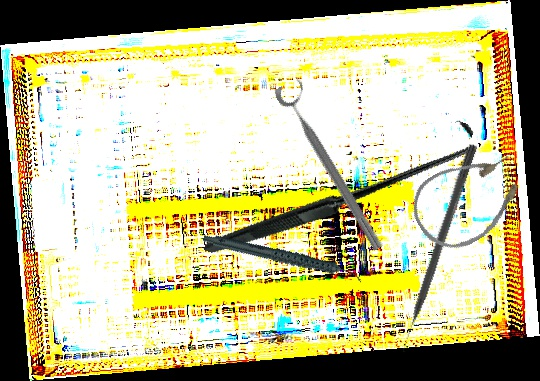Cannula: (401, 138, 537, 262)
Fixation Ring: (272, 75, 397, 254)
Handpiece: (201, 203, 365, 314)
Hook Surgical: (203, 56, 476, 321)
Pusher: (395, 142, 479, 354)
